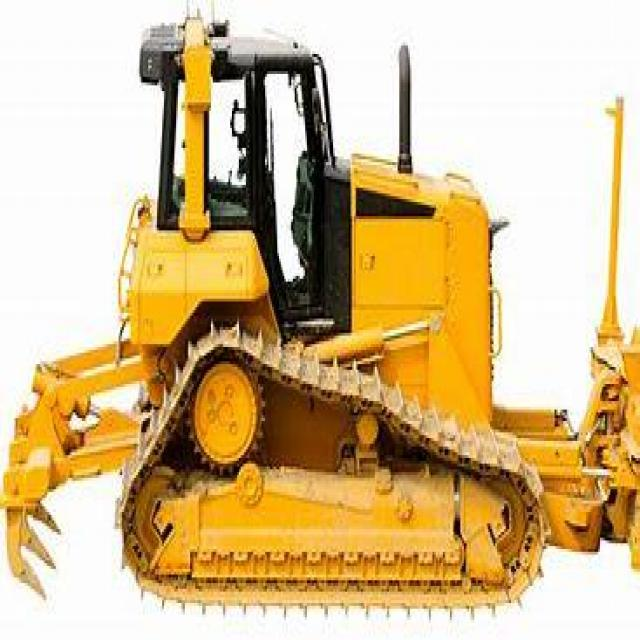Bulldozer: (5, 6, 638, 612)
